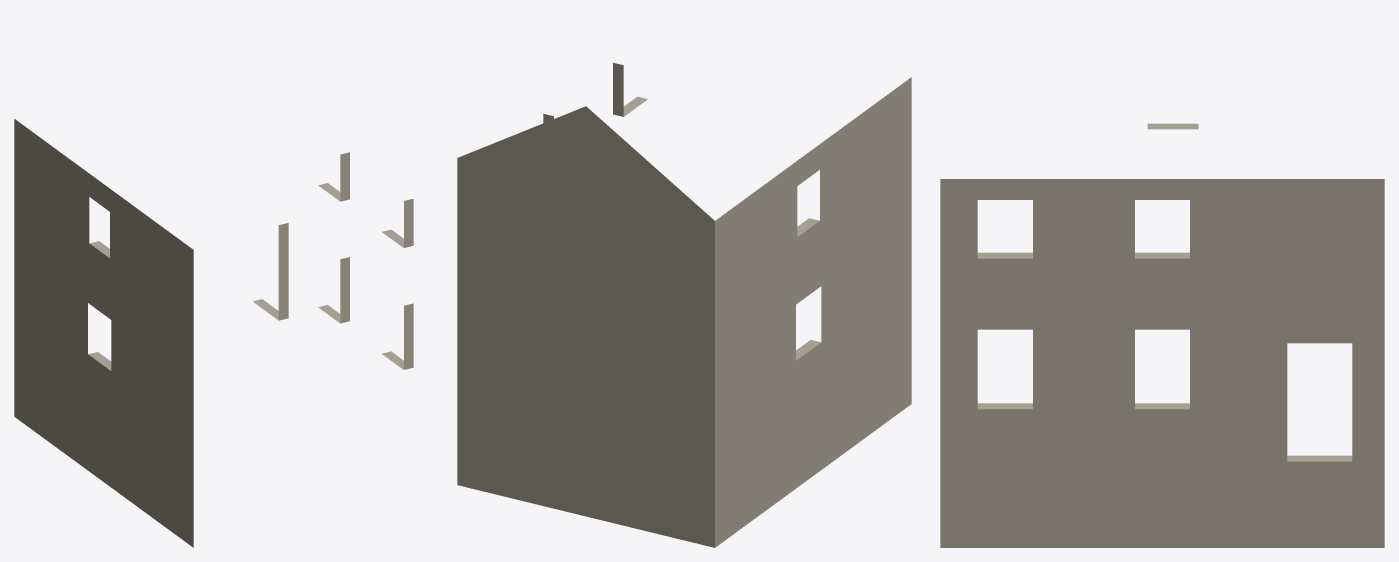
Rendered from SM_Bld_067_Render.glb.
3 renders of one model, left to right at view 1: azimuth 30°, elevation 25°; view 2: azimuth 150°, elevation 25°; view 3: azimuth 270°, elevation 25°, orthographic. The views are drawn at different scales.
Visible parts, largest first — view 1: SM_Bld_067_Render; view 2: SM_Bld_067_Render; view 3: SM_Bld_067_Render.
Part boxes in pixels (<box>): SM_Bld_067_Render: <box>14,119,413,547</box>; SM_Bld_067_Render: <box>457,62,911,547</box>; SM_Bld_067_Render: <box>940,123,1384,547</box>.
Bounding box in the file's own units: 5.28 × 8.03 × 6.98.
